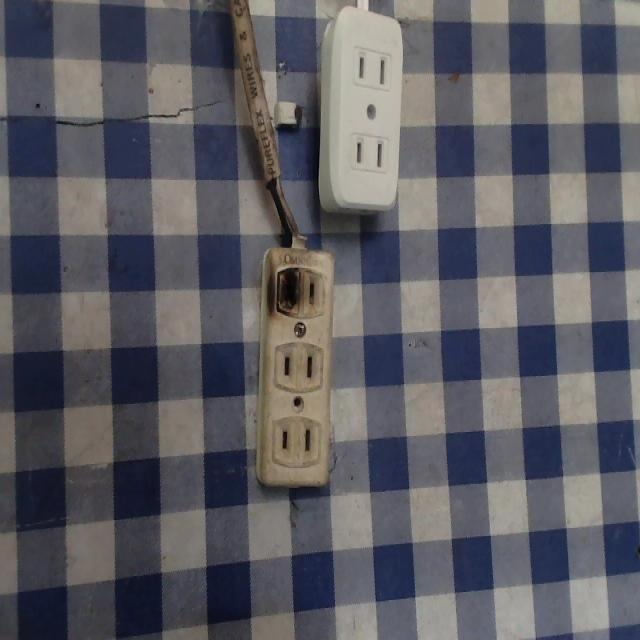-: (269, 260, 303, 317)
